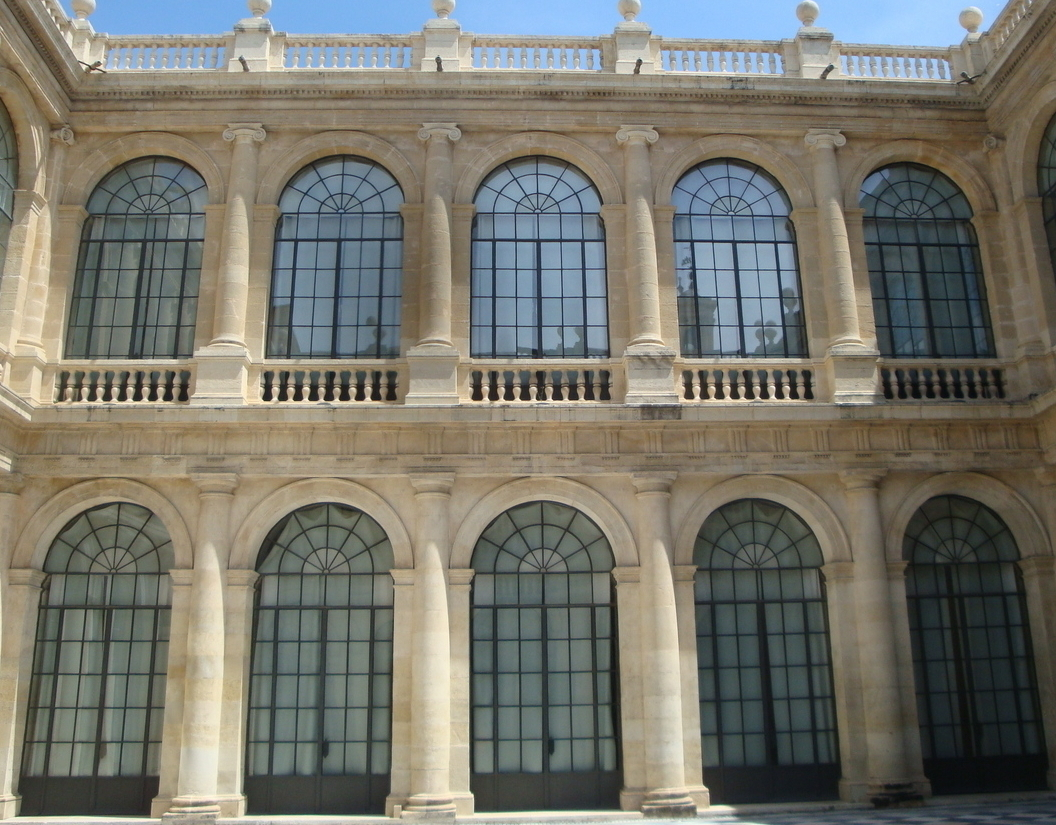arco-medio-punto: (1, 473, 205, 601), (441, 471, 648, 595), (219, 474, 423, 596), (668, 472, 861, 597), (881, 460, 1056, 582), (250, 126, 428, 232), (54, 125, 237, 228), (445, 125, 634, 223), (840, 135, 1007, 234), (651, 129, 818, 226)
